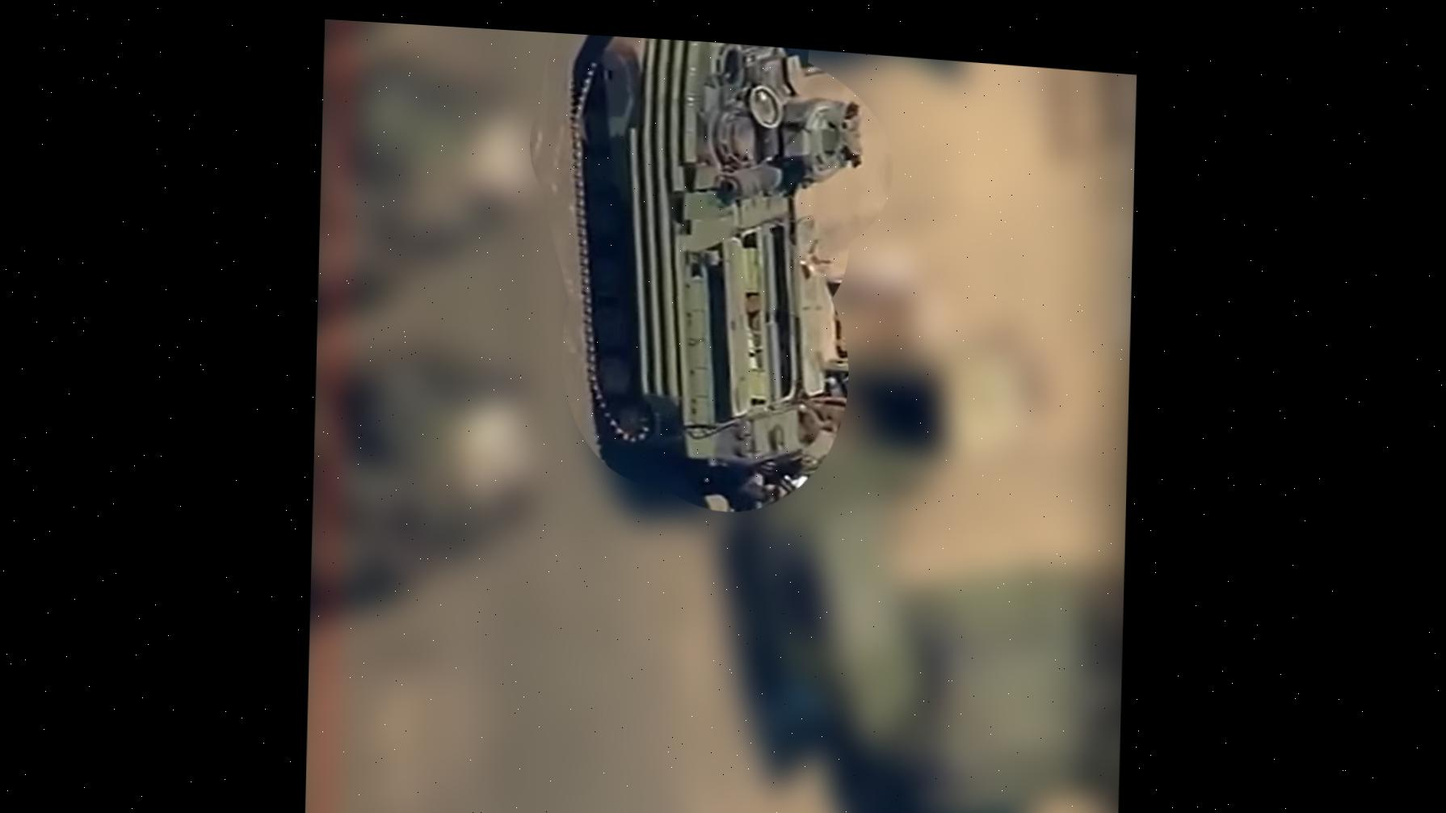armored_car: (554, 33, 872, 524)
